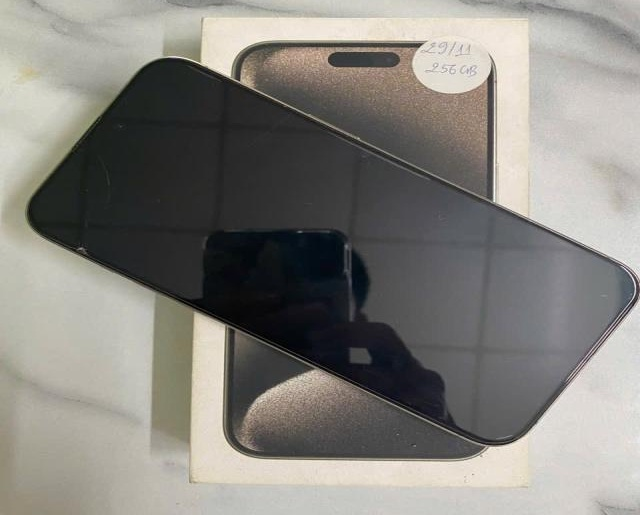physical_damage: (145, 13, 439, 195), (50, 135, 118, 260), (345, 136, 393, 175), (601, 282, 635, 307), (426, 203, 454, 225)
